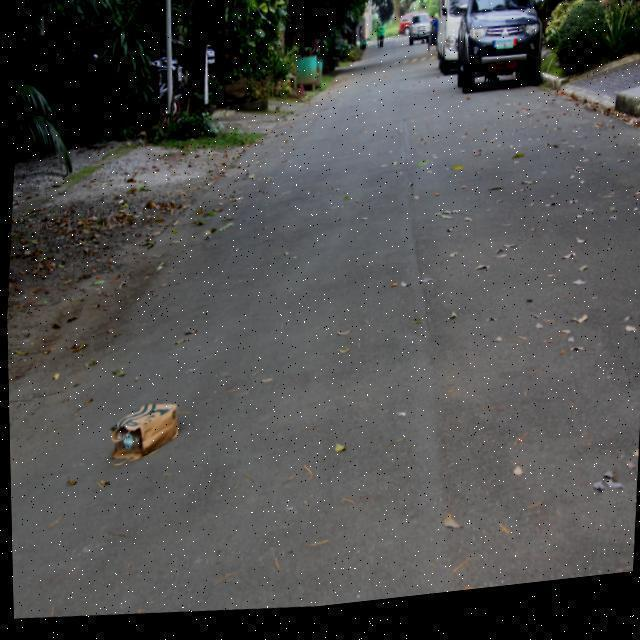Paper_Bag: (104, 402, 179, 473)
